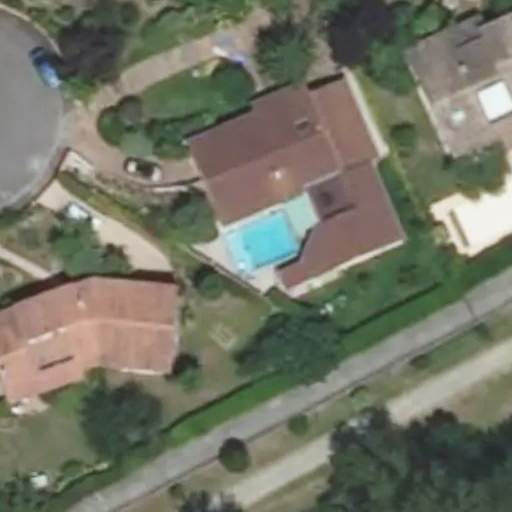pool: (215, 239, 295, 253)
